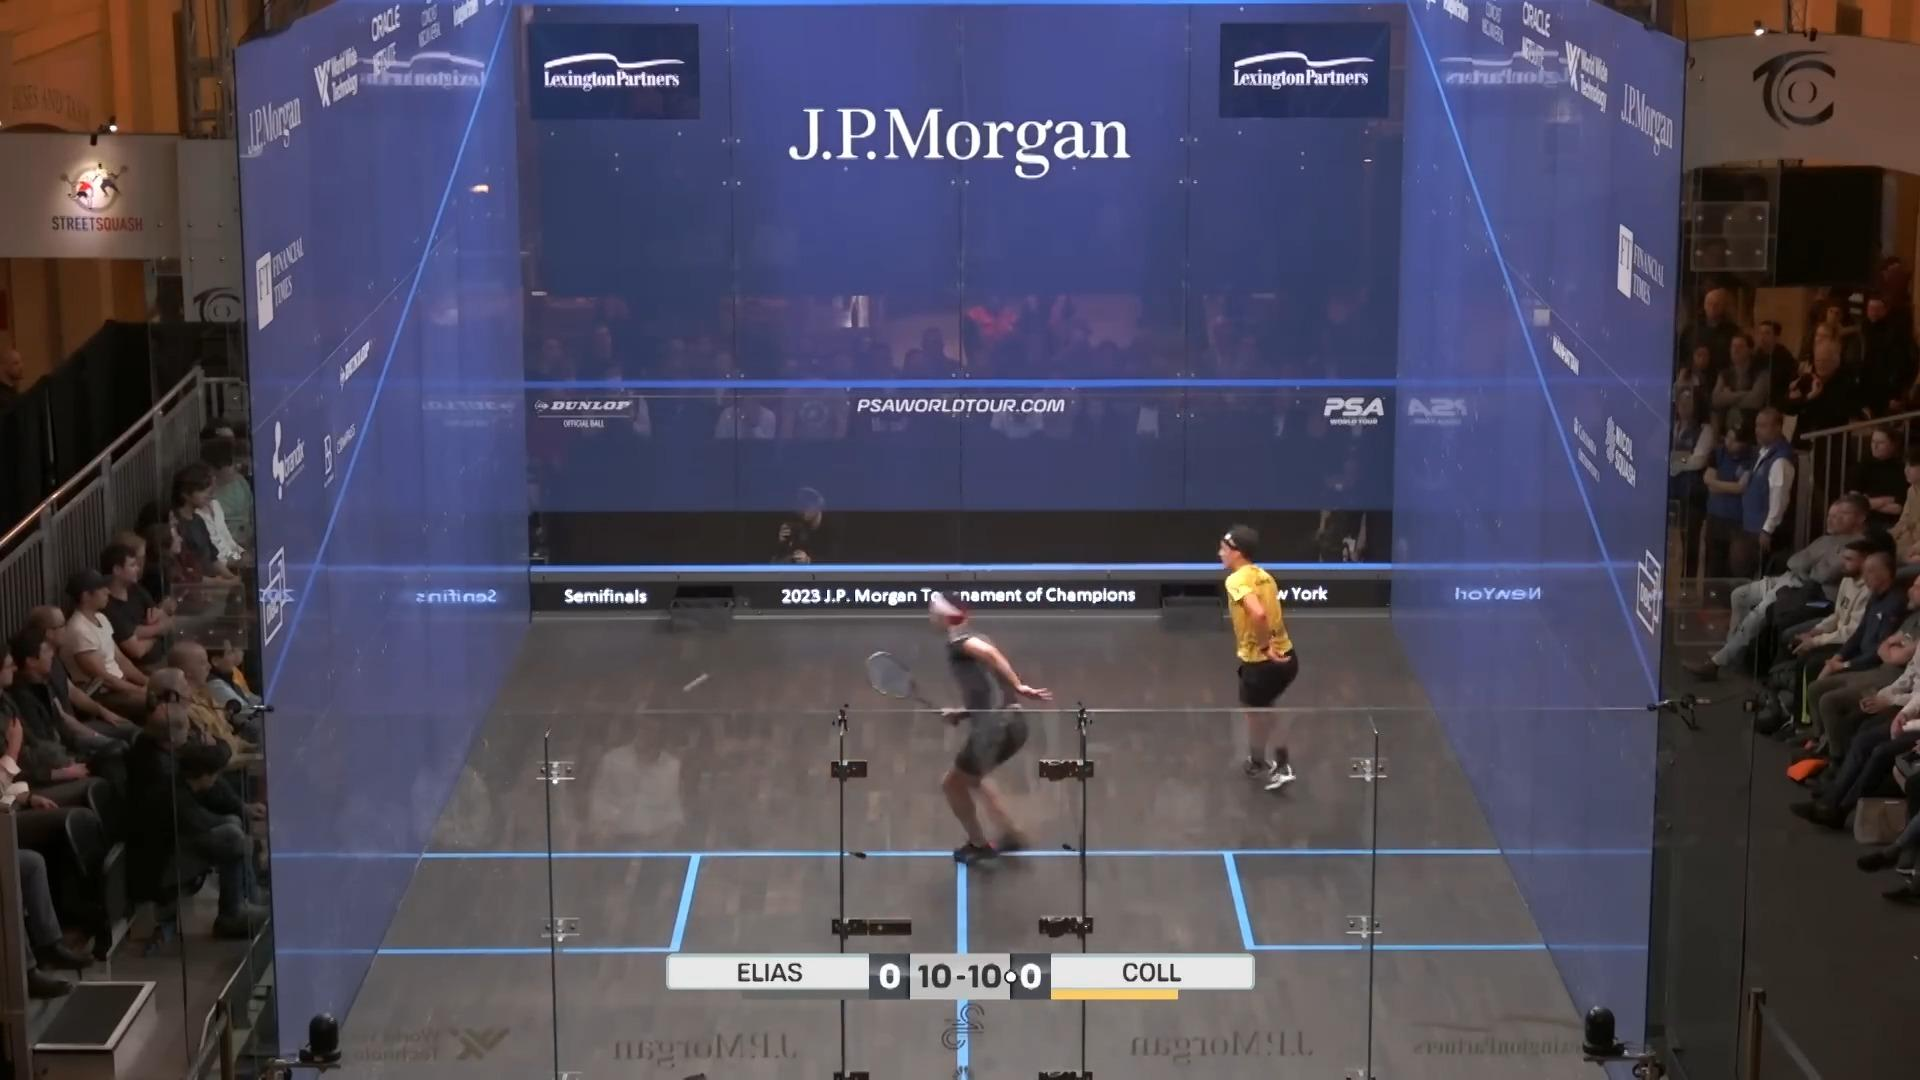Racket: (860, 642, 949, 716)
